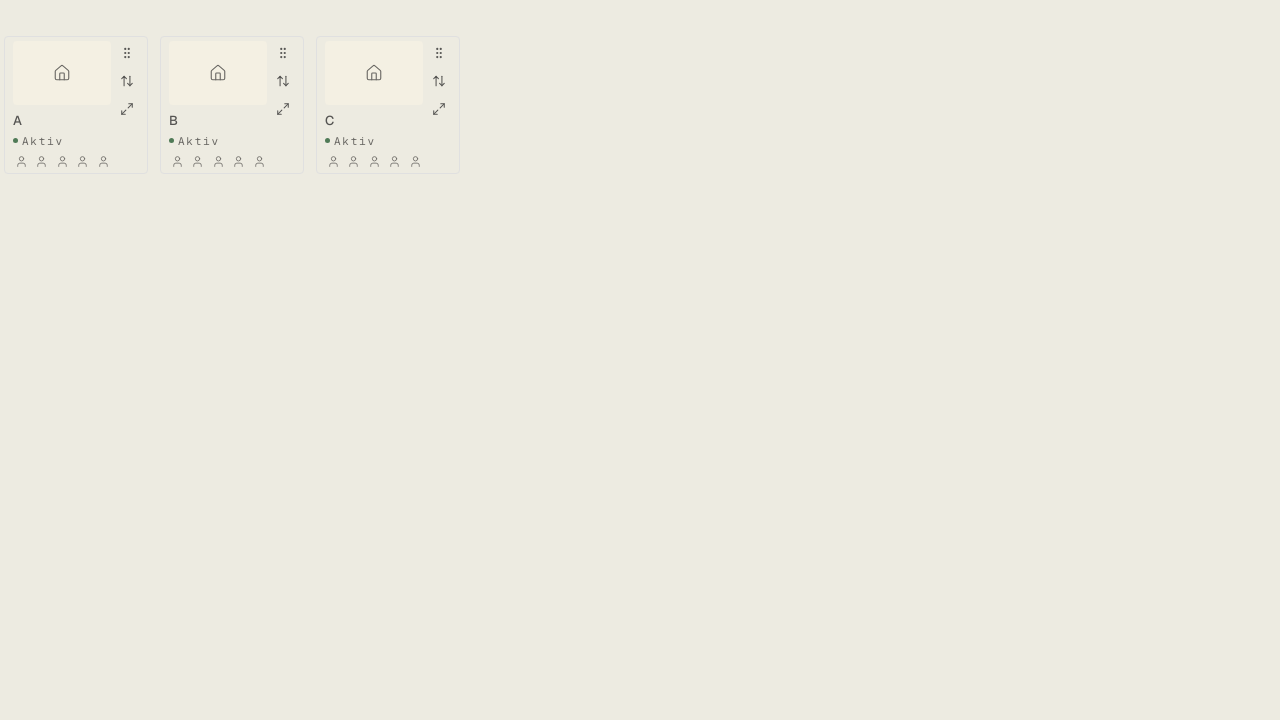
Test case: ListingMatrix › keeps the new order when the save succeeds and the refresh fails
Step 1. Click the button named "Position von A ändern" → (127, 81), box x1=115 y1=69 x2=139 y2=93
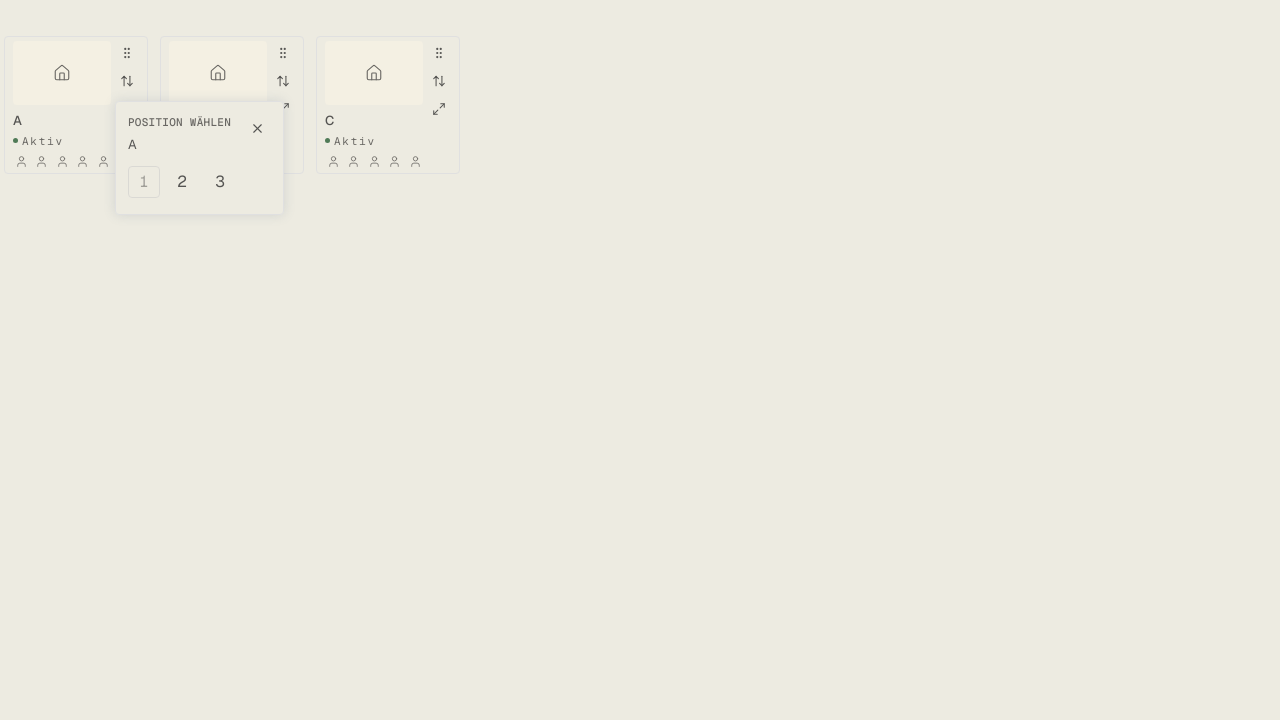
Step 2. Click the button named "Auf Position 3 verschieben" → (220, 182), box x1=204 y1=166 x2=236 y2=198
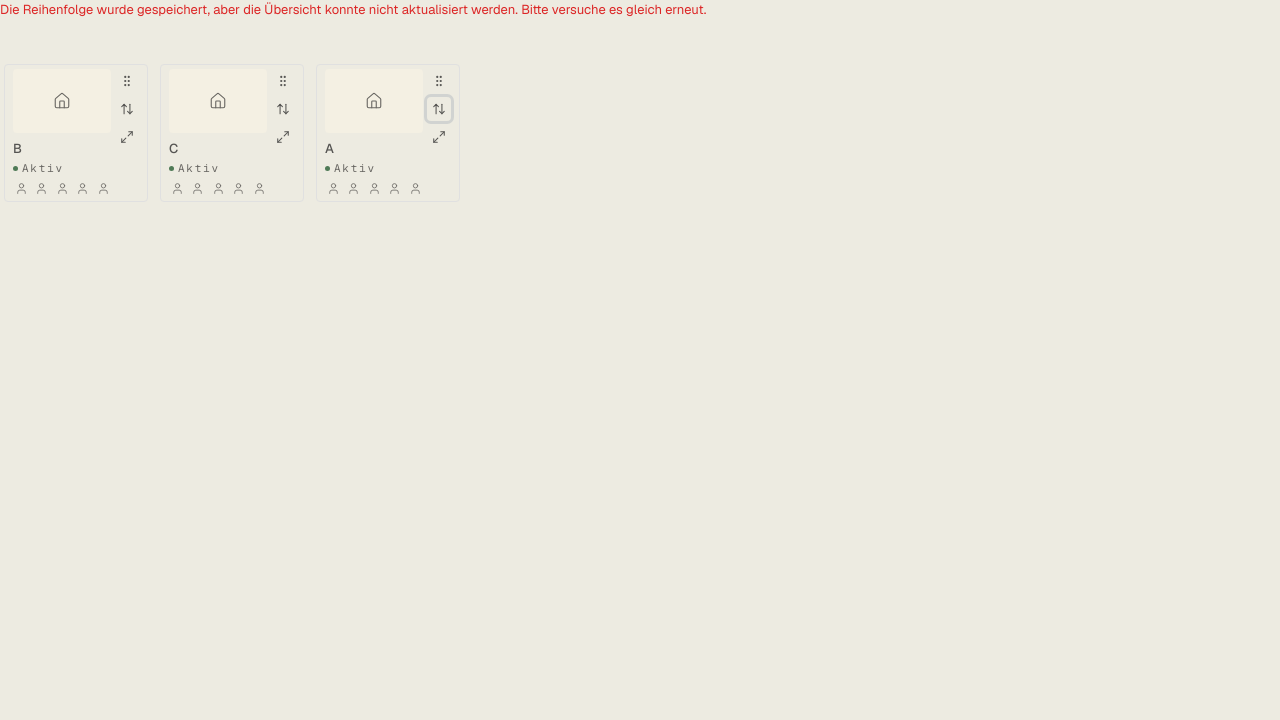
Expected: the message shows "Die Reihenfolge wurde gespeichert", x1=0 y1=1 x2=706 y2=18
